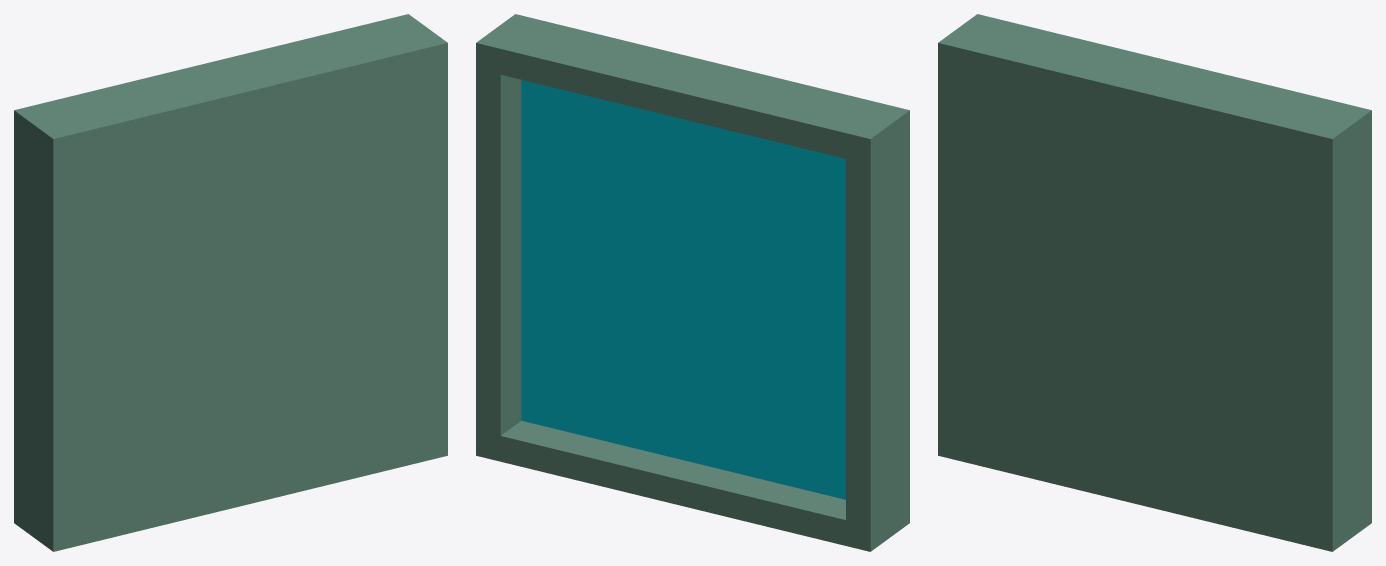
File: window.fbx
3 renders of one model, left to right at view 1: azimuth 30°, elevation 25°; view 2: azimuth 150°, elevation 25°; view 3: azimuth 330°, elevation 25°, orthographic.
Visible parts, largest first — view 1: window; view 2: window; view 3: window.
Part boxes in pixels (bbox=[...]): window: bbox=[14, 14, 447, 551]; window: bbox=[476, 14, 909, 551]; window: bbox=[938, 14, 1371, 551].
Bounding box in the file's own units: 482 × 482 × 83.55.
